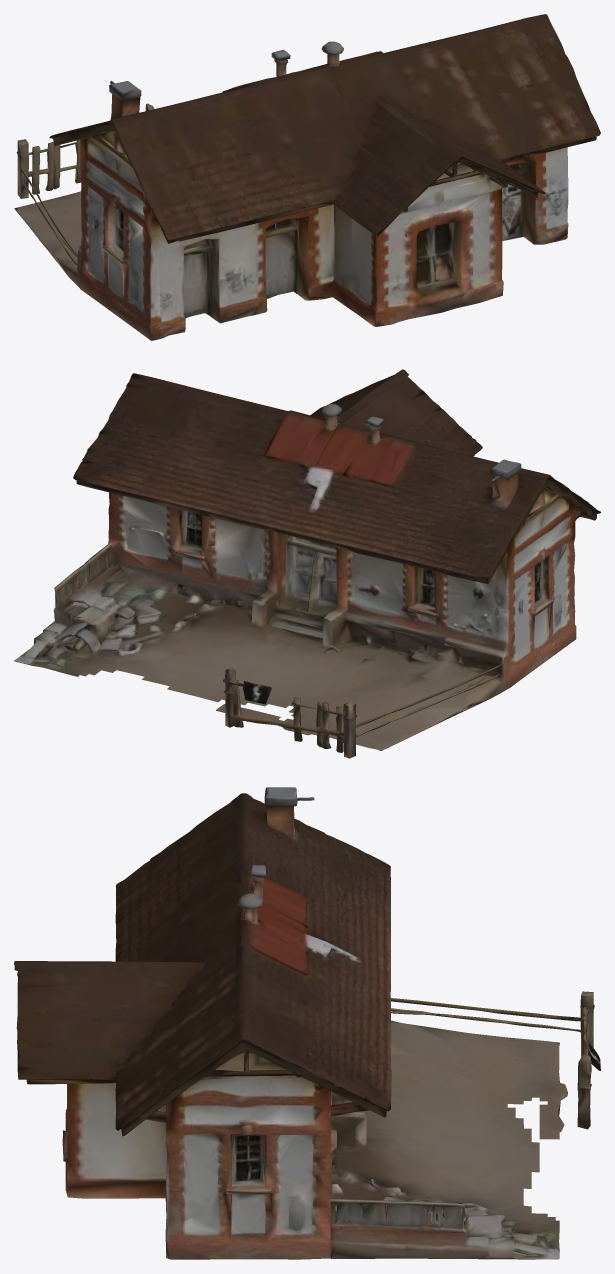
The model's file is abandoned.glb.
3 views of the same model, one above another, from view 1: azimuth 30°, elevation 25°; view 2: azimuth 150°, elevation 25°; view 3: azimuth 270°, elevation 25° (orthographic). The views are drawn at different scales.
Parts seen in each view (by area): view 1: tripo_node_607dfb3c-29ce-4a17-82b0-824651f649f0; view 2: tripo_node_607dfb3c-29ce-4a17-82b0-824651f649f0; view 3: tripo_node_607dfb3c-29ce-4a17-82b0-824651f649f0.
Boxes of the visible parts, box(x1,y1,x2,y2) form: tripo_node_607dfb3c-29ce-4a17-82b0-824651f649f0: box(14, 14, 600, 340); tripo_node_607dfb3c-29ce-4a17-82b0-824651f649f0: box(14, 369, 600, 758); tripo_node_607dfb3c-29ce-4a17-82b0-824651f649f0: box(14, 787, 600, 1259).
Bounding box in the file's own units: 0.9965 × 0.4792 × 1.
1 material, 1 textured.
